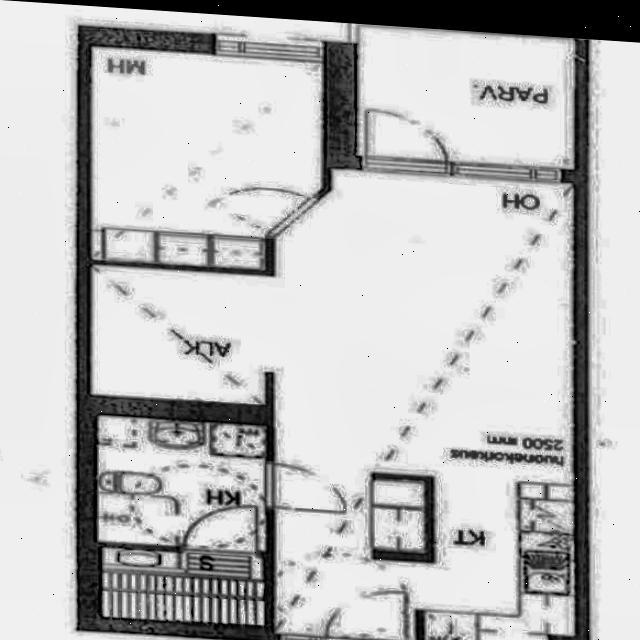room: (77, 46, 332, 276), (89, 415, 275, 553), (97, 548, 270, 627)
